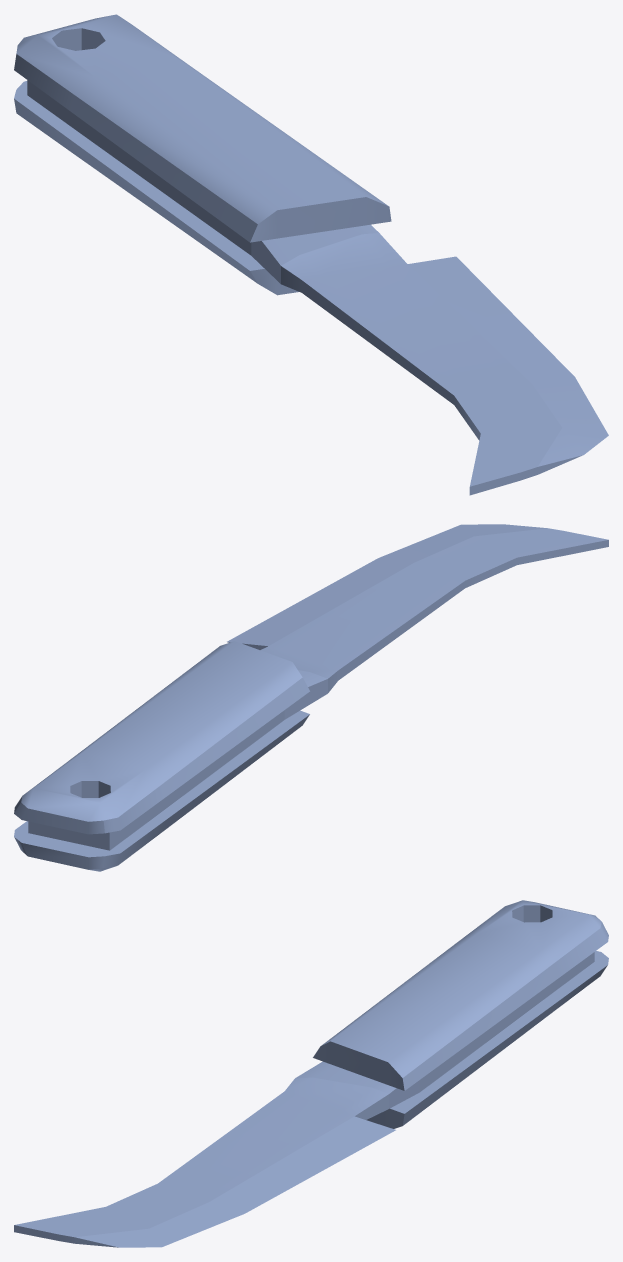
File: Knife04.fbx
3 renders of one model, top to bottom at view 1: azimuth 30°, elevation 25°; view 2: azimuth 150°, elevation 25°; view 3: azimuth 330°, elevation 25°, orthographic. The views are drawn at different scales.
Visible parts, largest first — view 1: Utensils01_Uv_v001:Knife04; view 2: Utensils01_Uv_v001:Knife04; view 3: Utensils01_Uv_v001:Knife04.
Part boxes in pixels (left/top/right/bottom): Utensils01_Uv_v001:Knife04: left=14, top=14, right=608, bottom=495; Utensils01_Uv_v001:Knife04: left=14, top=524, right=608, bottom=871; Utensils01_Uv_v001:Knife04: left=14, top=900, right=608, bottom=1247.
Size of the model in its own units: 8.06 by 2.84 by 33.21.
1 material, 1 textured.
